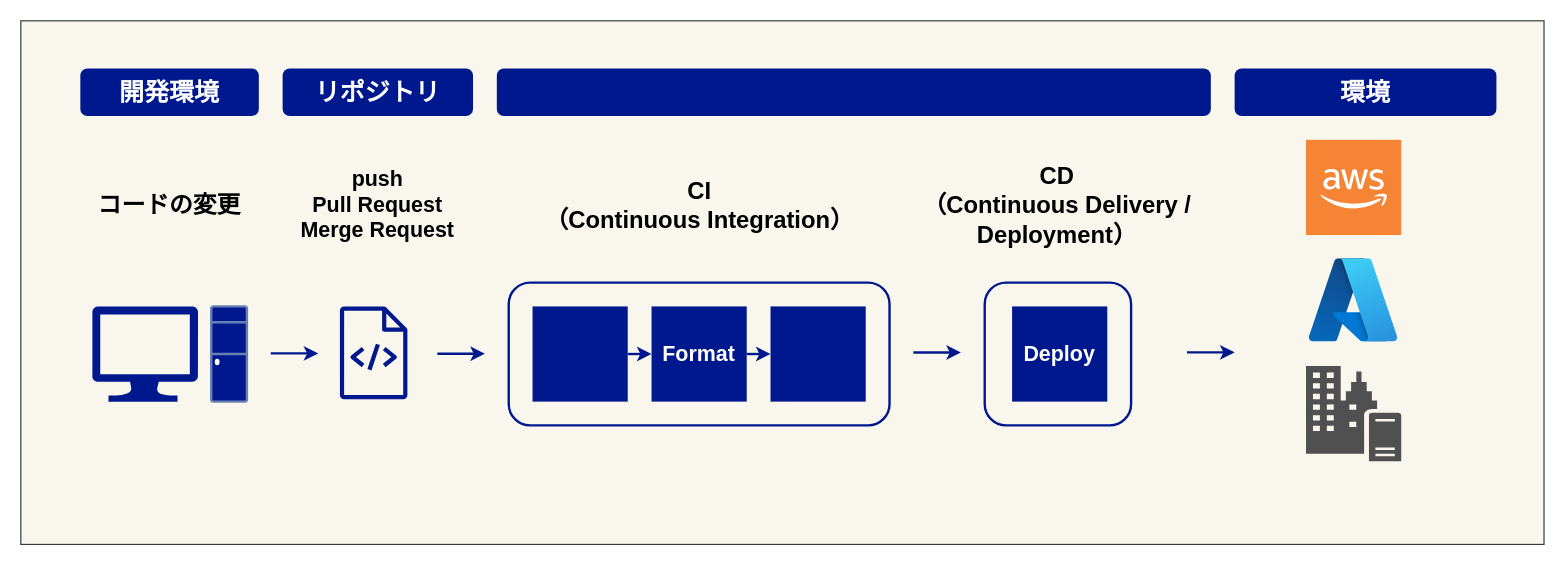
This 1565x565 diagram has some shape labels left out. The centre of each missing label's shape, as x and y in pixels:
CI/CDパイプライン: point (853, 91)
Lint: point (579, 353)
Test: point (817, 353)
